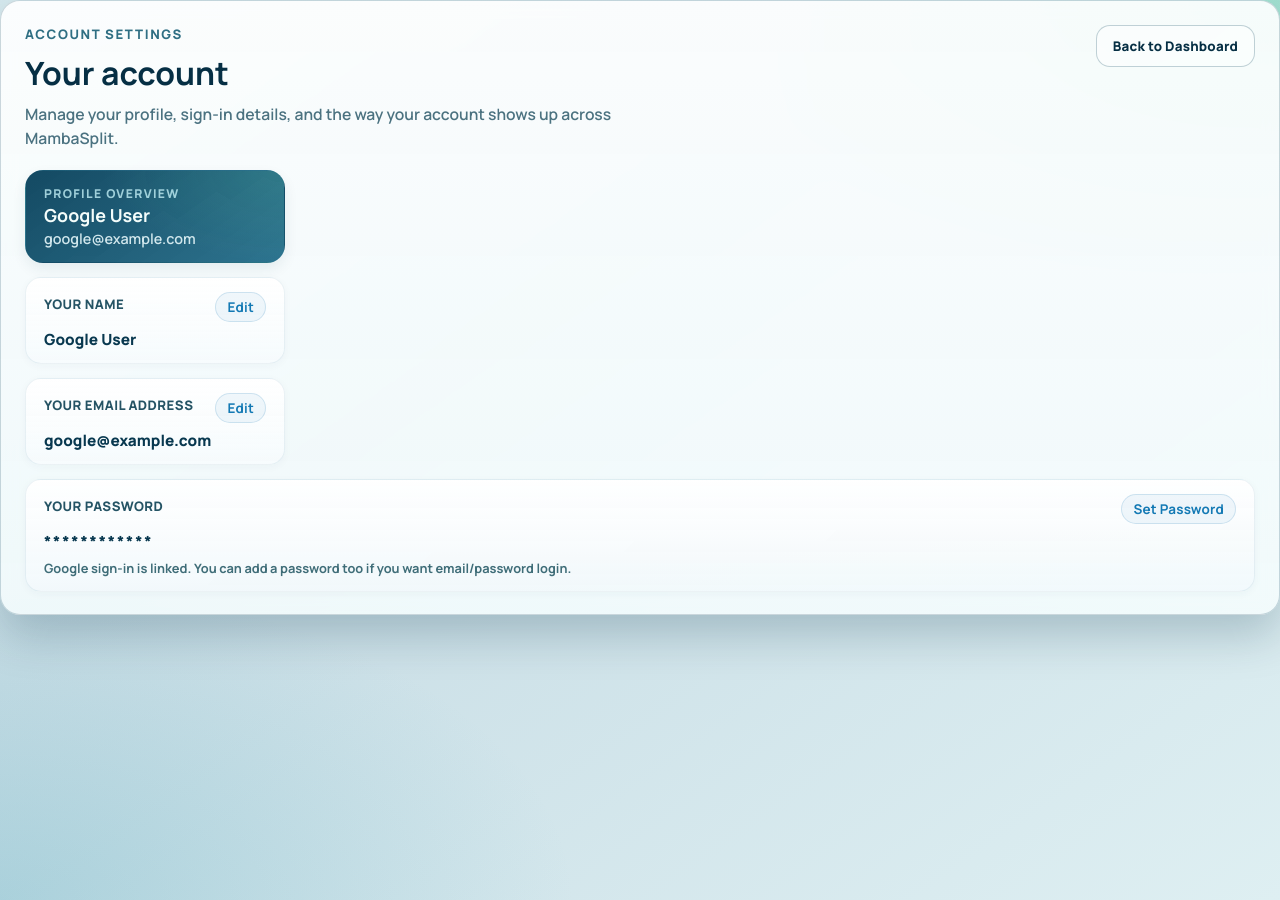
Test: AccountView › shows a Google-linked password message and skips current password
Expected: the text "Google sign-in is linked. You can add a password too if you want email/password login." is shown, left=44, top=559, right=571, bottom=577
Click the button "Set Password" at (1179, 509), box left=1121, top=494, right=1236, bottom=524
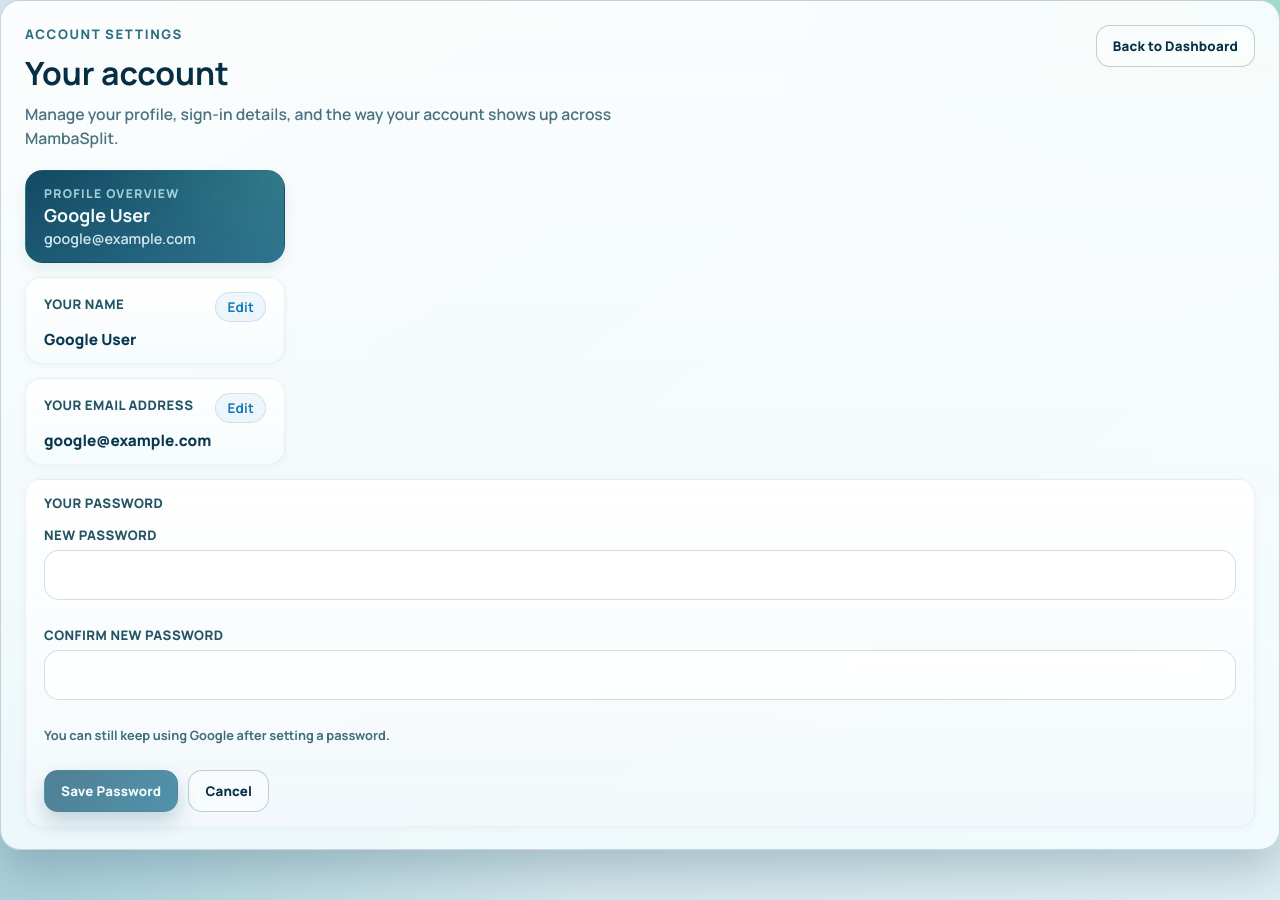
Result: the password field named "New password" is shown at left=44, top=550, right=1236, bottom=600
